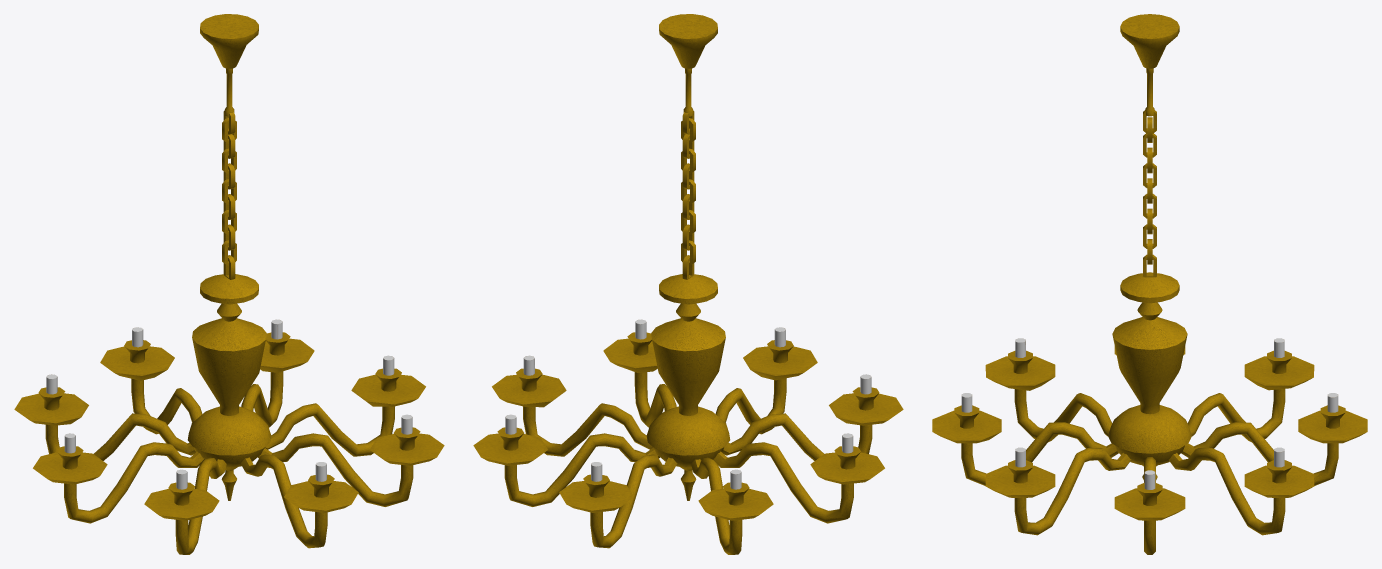
File: chandelier1.obj
3 renders of one model, left to right at view 1: azimuth 30°, elevation 25°; view 2: azimuth 150°, elevation 25°; view 3: azimuth 270°, elevation 25°, orthographic.
Visible parts, largest first — view 1: chandelier1; view 2: chandelier1; view 3: chandelier1.
Part boxes in pixels (box(x1,y1,x2,y2)): chandelier1: box(14, 14, 444, 554); chandelier1: box(473, 14, 903, 554); chandelier1: box(932, 14, 1367, 554).
Bounding box in the file's own units: 5.19 × 6.2 × 5.19.
Materials: 1 (1 with a texture image).
